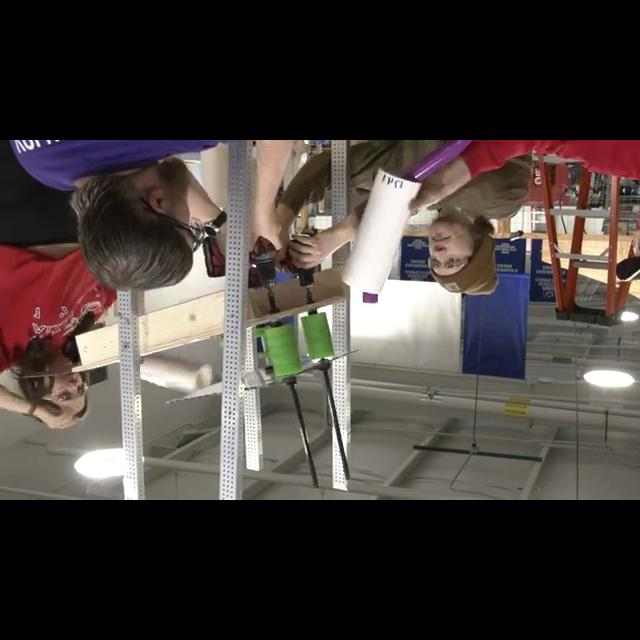CORAL: (339, 142, 473, 306), (141, 354, 213, 392)
